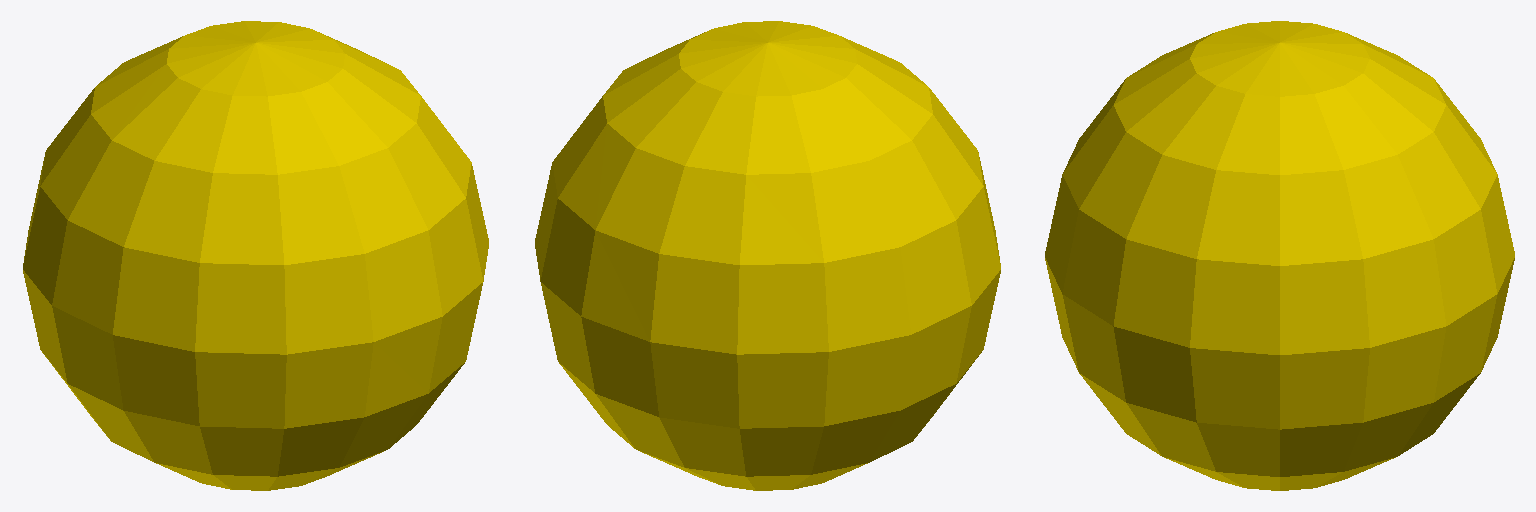
3 views of the same model, side by side, from view 1: azimuth 30°, elevation 25°; view 2: azimuth 150°, elevation 25°; view 3: azimuth 270°, elevation 25° (orthographic).
Parts seen in each view (by area): view 1: poolball1; view 2: poolball1; view 3: poolball1.
Part boxes in pixels (x1,y1,x2,y2): poolball1: (23, 21, 488, 490); poolball1: (535, 21, 1000, 490); poolball1: (1045, 21, 1514, 490).
Bounding box in the file's own units: 1.95 × 1.95 × 1.95.
1 materials, 1 textured.